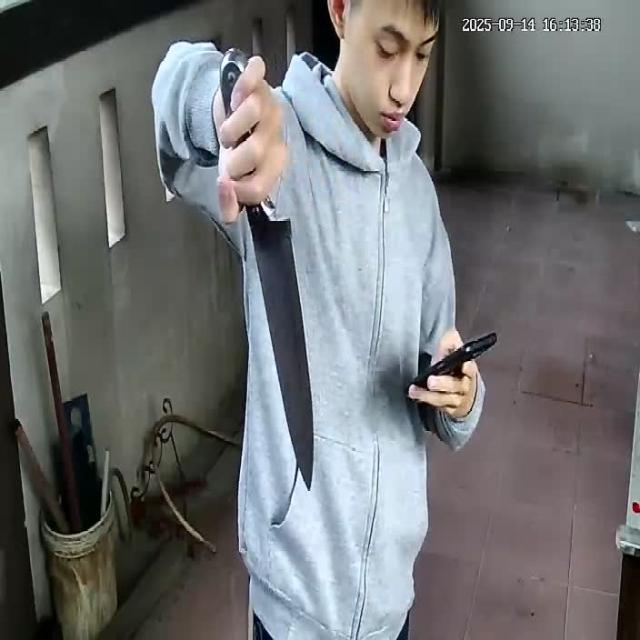senjata_tajam: (243, 204, 317, 492)
